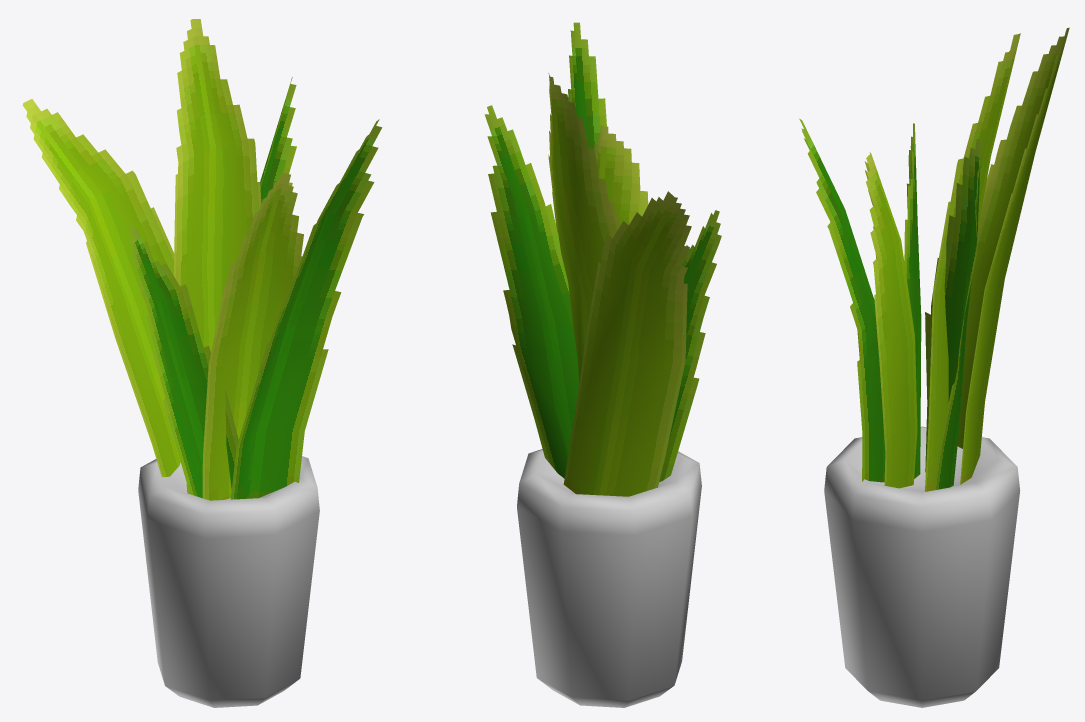
The model's file is tool_komono_02.dae.
3 renders of one model, left to right at view 1: azimuth 30°, elevation 25°; view 2: azimuth 150°, elevation 25°; view 3: azimuth 270°, elevation 25°, orthographic. The views are drawn at different scales.
Visible parts, largest first — view 1: vsn_mesh_1_polySurface12, vsn_mesh_0_outline; view 2: vsn_mesh_1_polySurface12, vsn_mesh_0_outline; view 3: vsn_mesh_1_polySurface12, vsn_mesh_0_outline.
Part boxes in pixels (x1,y1,x2,y2): vsn_mesh_1_polySurface12: (22,19,382,500); vsn_mesh_0_outline: (138,456,319,707); vsn_mesh_1_polySurface12: (484,22,721,496); vsn_mesh_0_outline: (517,449,701,707); vsn_mesh_1_polySurface12: (799,27,1069,491); vsn_mesh_0_outline: (824,426,1020,707).
Size of the model in its own units: 25.49 by 53.85 by 21.55.
3 materials, 2 textured.
